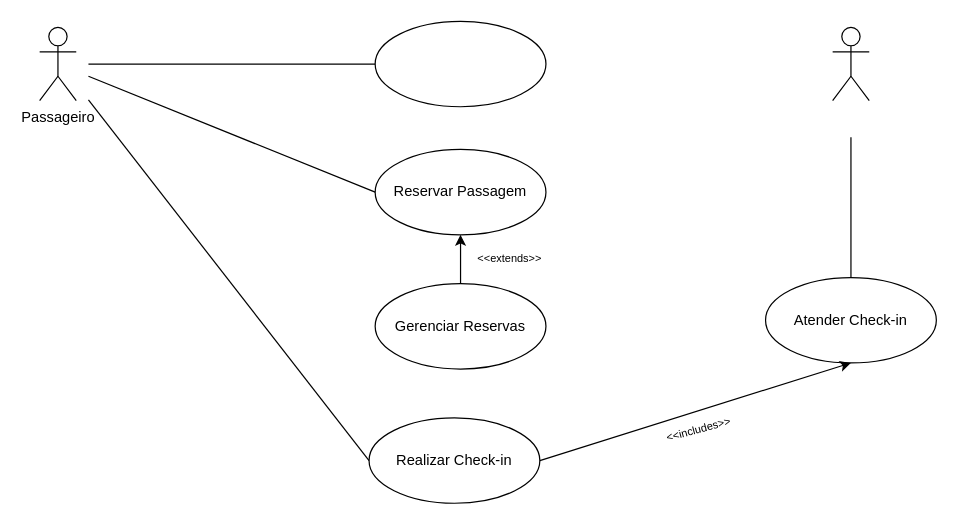
This 958x525 diagram has some shape labels left out. The shapes that lost their labels are listed below. From the top down, each one's box as (x1, y1, x2, y2) in pixels, then its label:
(374, 20, 546, 107): Consultar Voos Disponíveis
(831, 26, 869, 101): Atendente de Check-in
